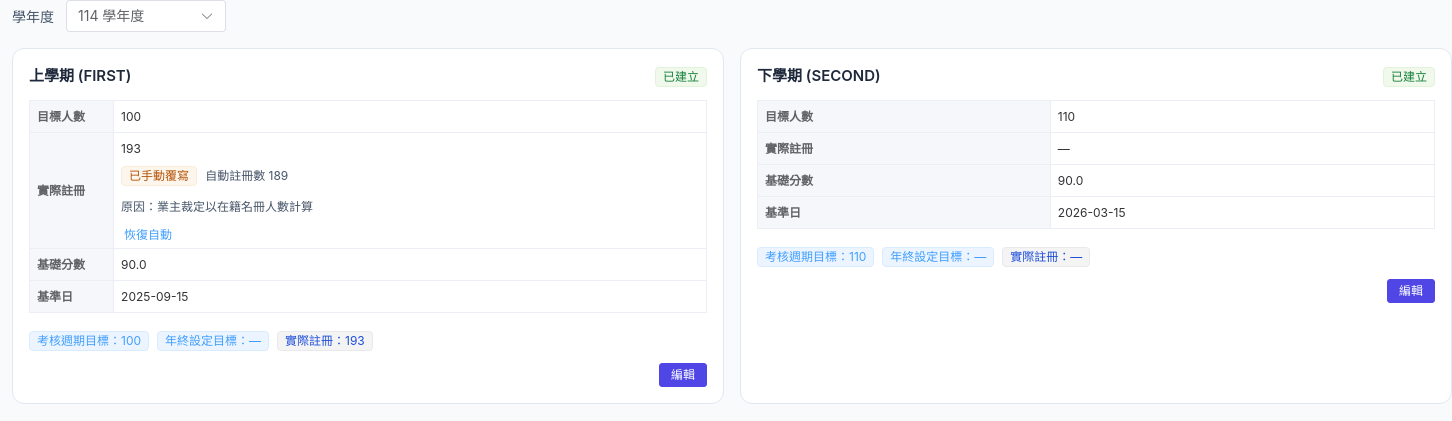
YearlyEnrollmentTargetSection › 註冊口徑：招生實際人數自動帶入／手動覆寫 › 已覆寫：編輯時實際註冊可改、原因預帶舊原因
Step 1. Click the button with test id "edit-first-btn" → (683,375), box [659,363,707,387]
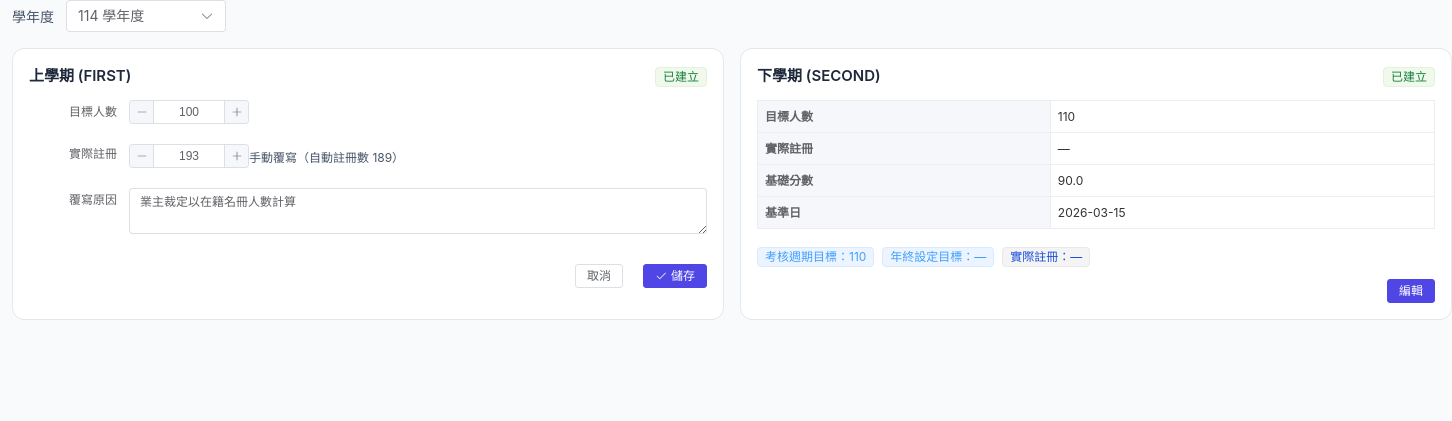
Check: the text box with test id "override-reason-first" is shown, box [129,188,707,234]
